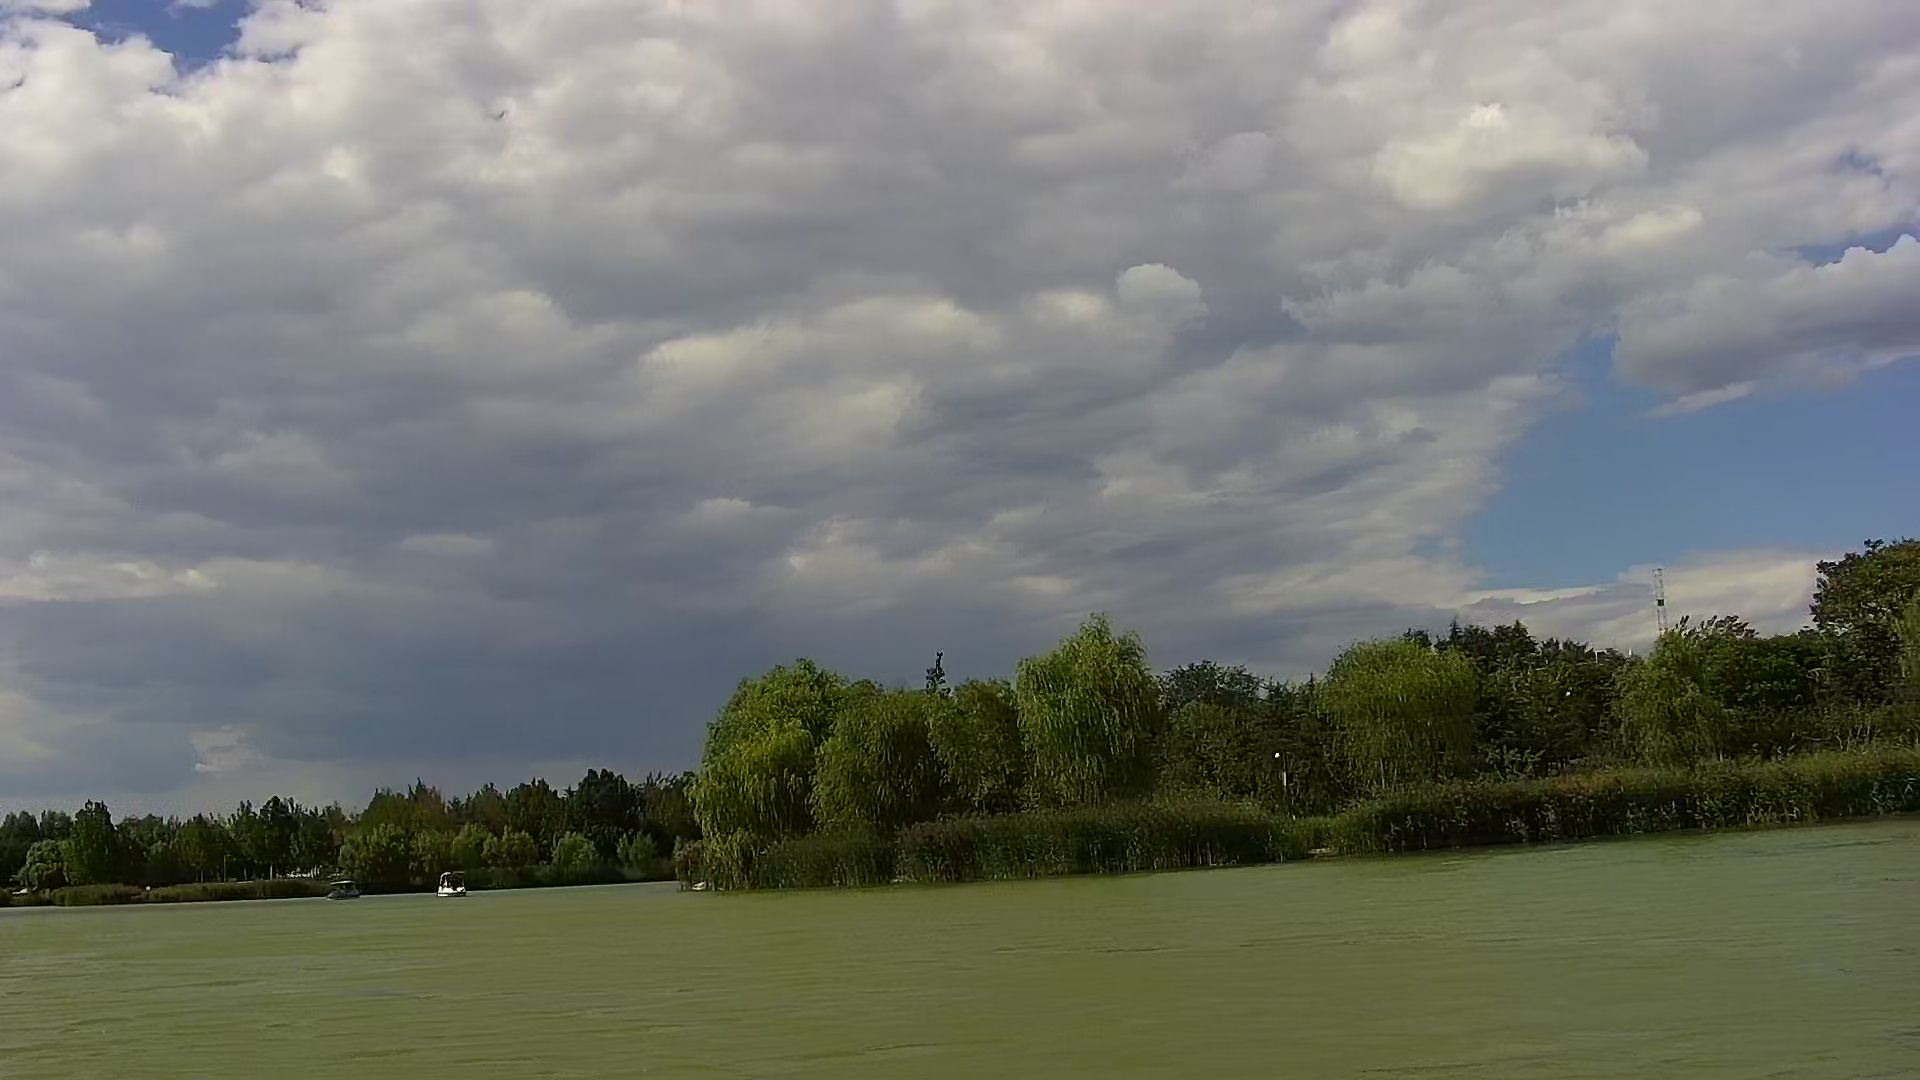boat: (435, 869, 472, 899), (324, 880, 371, 902)
